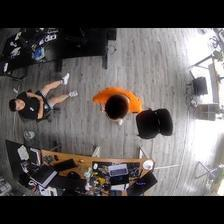normal: (7, 74, 78, 125), (93, 85, 144, 123)
